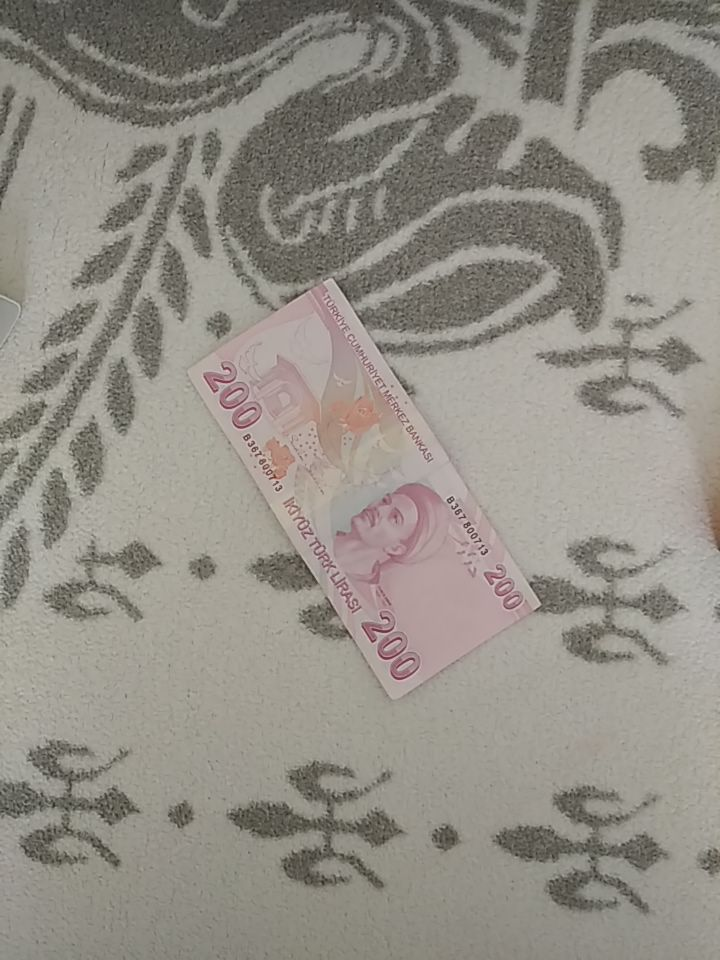200TL: (182, 275, 543, 705)
